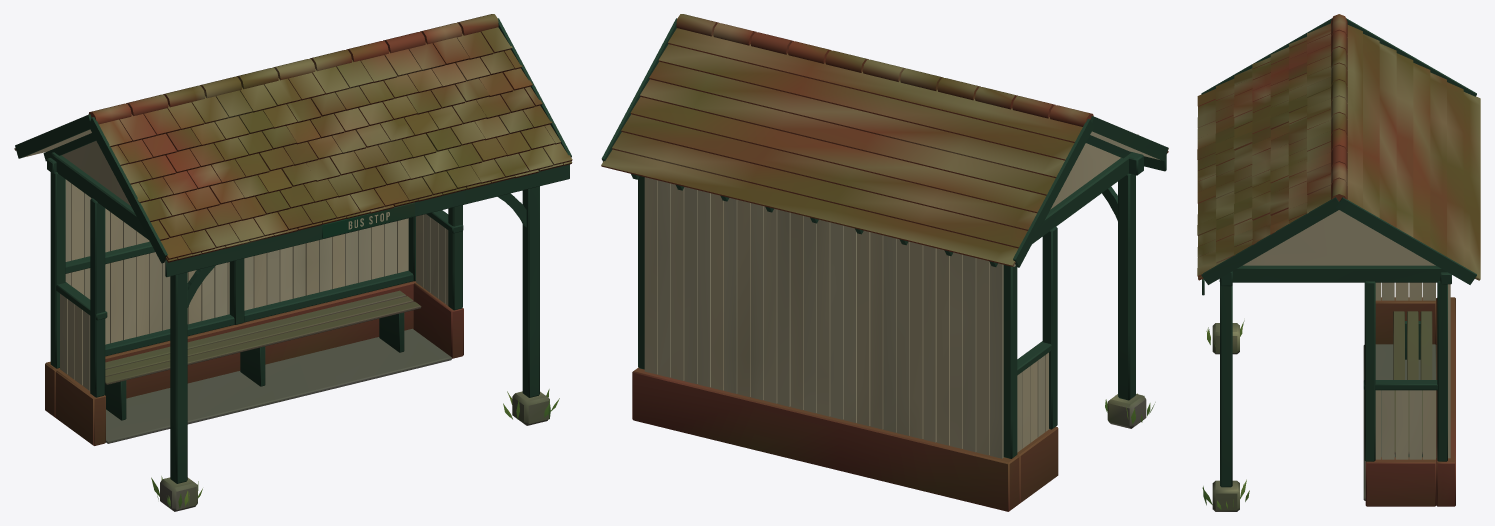
Rendered from bus_shelter.glb.
The picture shows the model from 3 angles, left to right: view 1: azimuth 30°, elevation 25°; view 2: azimuth 150°, elevation 25°; view 3: azimuth 270°, elevation 25°; orthographic projection. The views are drawn at different scales.
Parts seen in each view (by area): view 1: Body; view 2: Body; view 3: Body.
Boxes of the visible parts, x1=… form: Body: x1=14, y1=14, x2=572, y2=511; Body: x1=601, y1=14, x2=1168, y2=511; Body: x1=1197, y1=14, x2=1480, y2=511.
Size of the model in its own units: 4.39 by 3.65 by 2.89.
